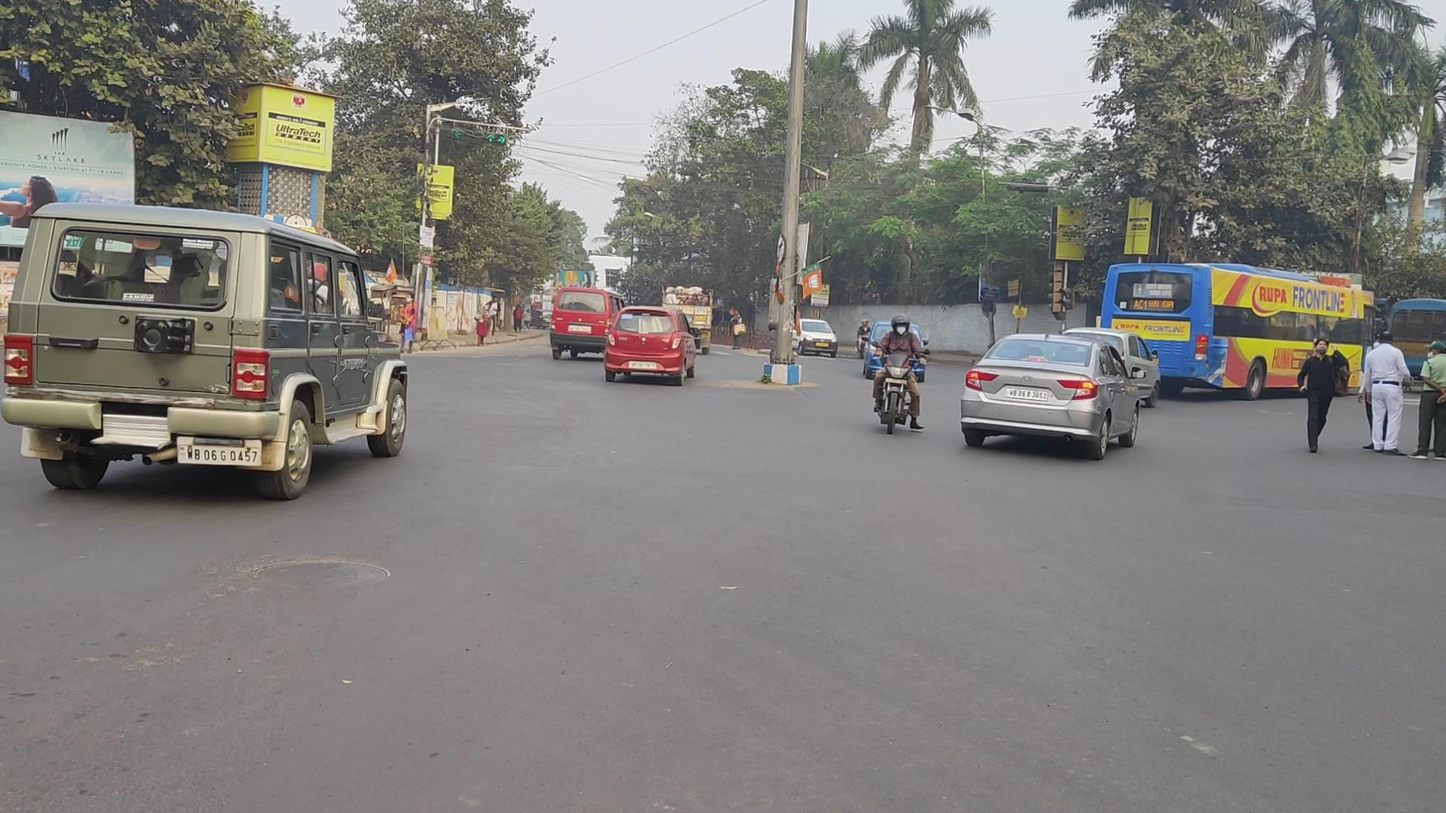Bus: (1100, 262, 1388, 401), (1386, 298, 1446, 386)
bike: (870, 312, 924, 435), (856, 318, 872, 359)
car: (2, 202, 408, 501), (960, 333, 1146, 459), (1060, 327, 1161, 407), (603, 305, 697, 387), (550, 287, 627, 361), (863, 321, 928, 385), (785, 318, 839, 358)
van: (660, 284, 714, 357)
